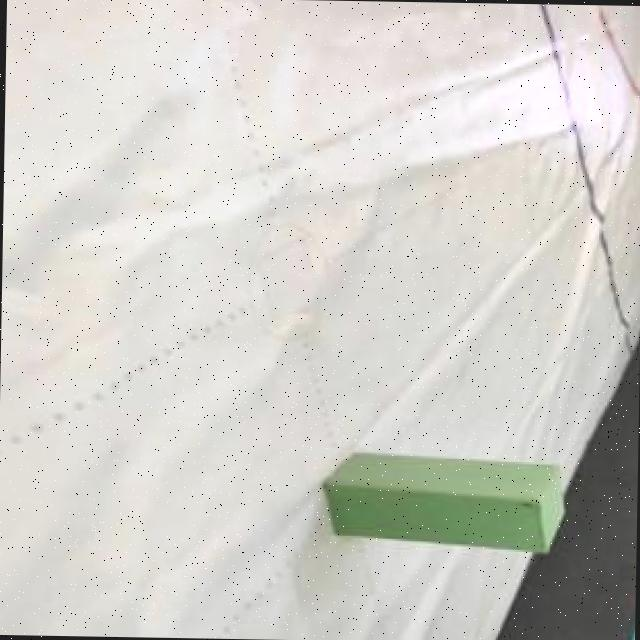greenbox: (317, 447, 569, 554)
